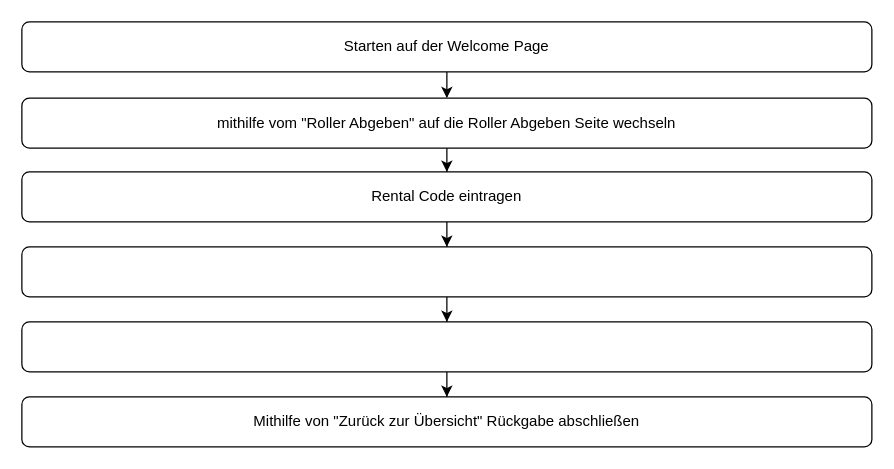
Image size: 894x469. Some labels were removed from this diagram. The centre of each missing label's shape, as x and y in pixels:
Code mithilfe von "Rental Code überprüfen" überprüfen: point 446,271
Nach erfolgreicher Überprüfung Übersicht kontrollieren: point 446,346
